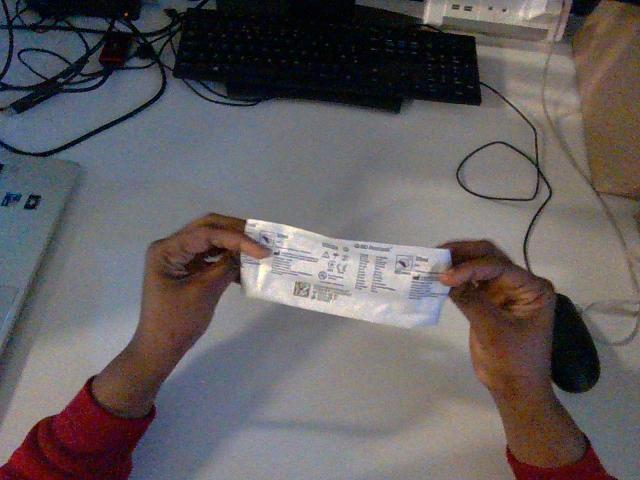syringe: (241, 220, 450, 327)
